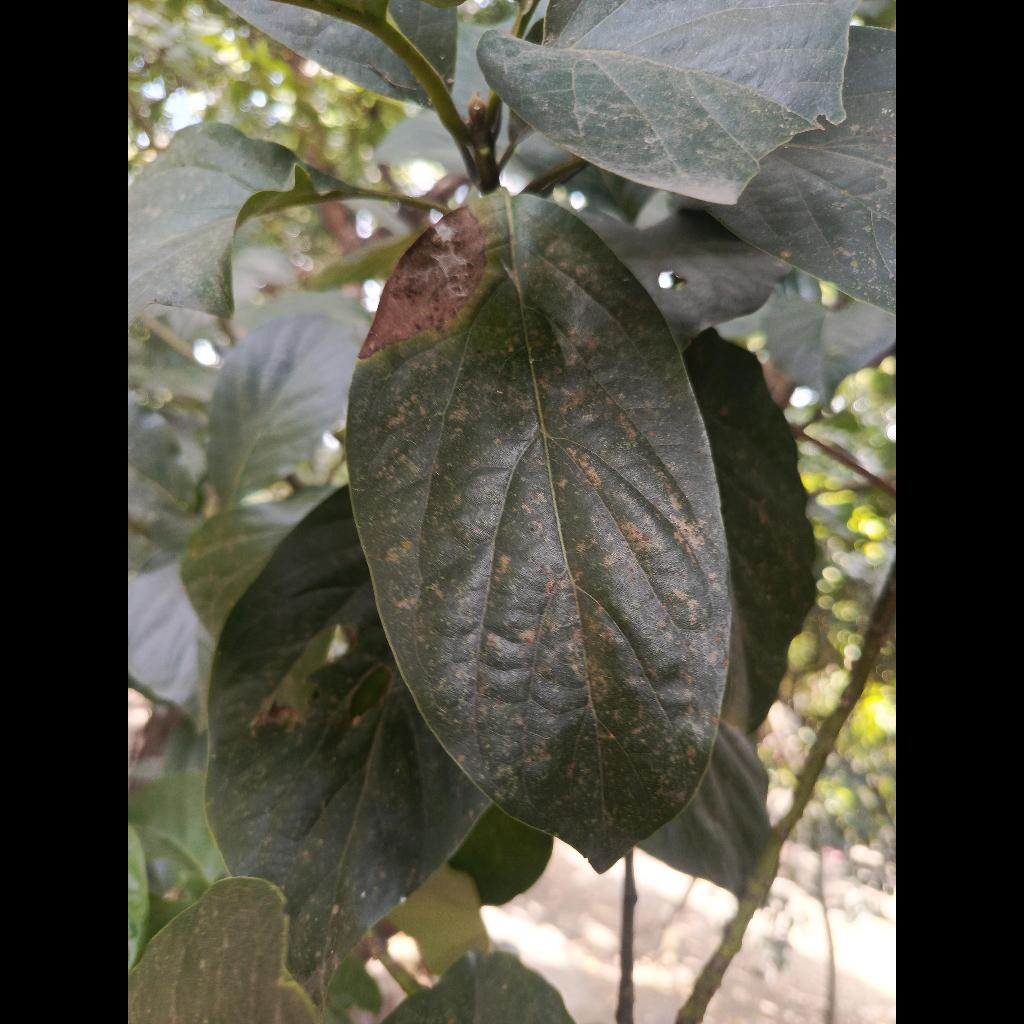Anthracnose: (347, 192, 730, 869)
